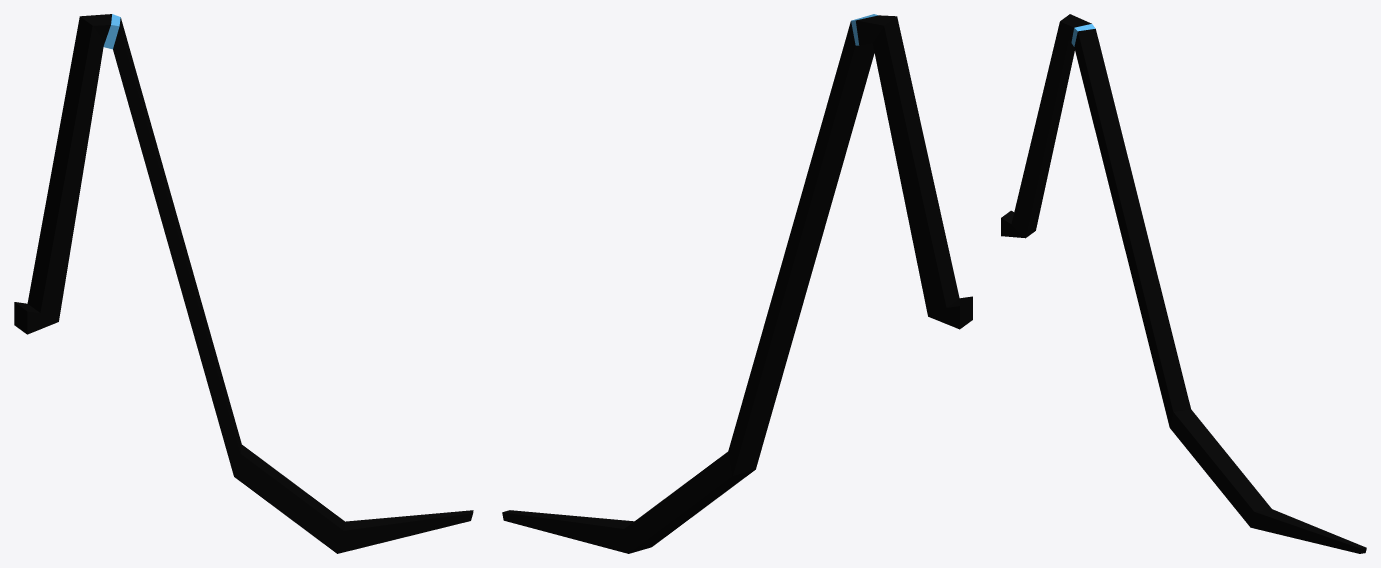
The model's file is MLegR.fbx.
The picture shows the model from 3 angles, left to right: view 1: azimuth 30°, elevation 25°; view 2: azimuth 150°, elevation 25°; view 3: azimuth 330°, elevation 25°; orthographic projection. The views are drawn at different scales.
Visible parts, largest first — view 1: MLegR; view 2: MLegR; view 3: MLegR.
Boxes of the visible parts, x1,y1,x2,y2 form: MLegR: (14,14,473,553); MLegR: (502,14,972,553); MLegR: (1001,14,1366,553).
Size of the model in its own units: 46.45 by 57.35 by 3.14.
